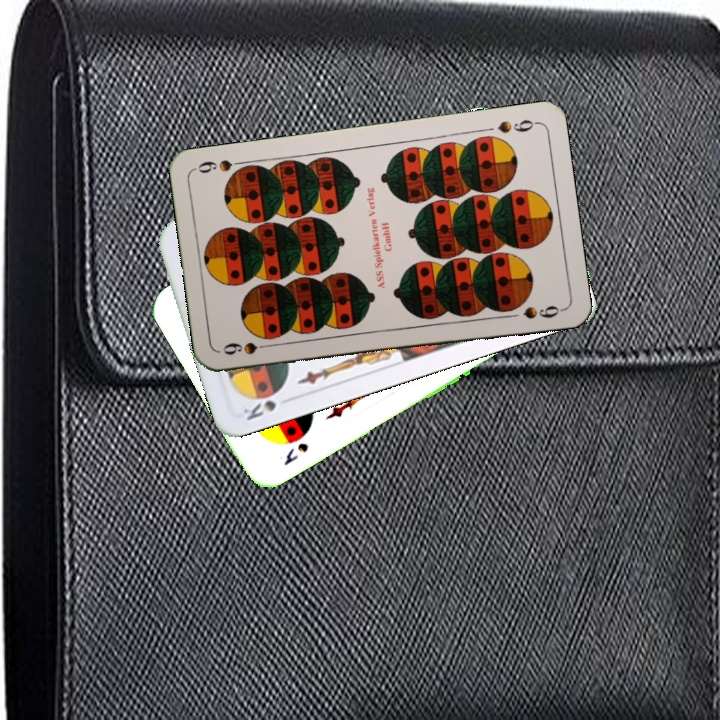S9: (218, 338, 277, 358), (493, 115, 540, 136)
SK: (239, 396, 279, 423), (279, 438, 311, 468)
